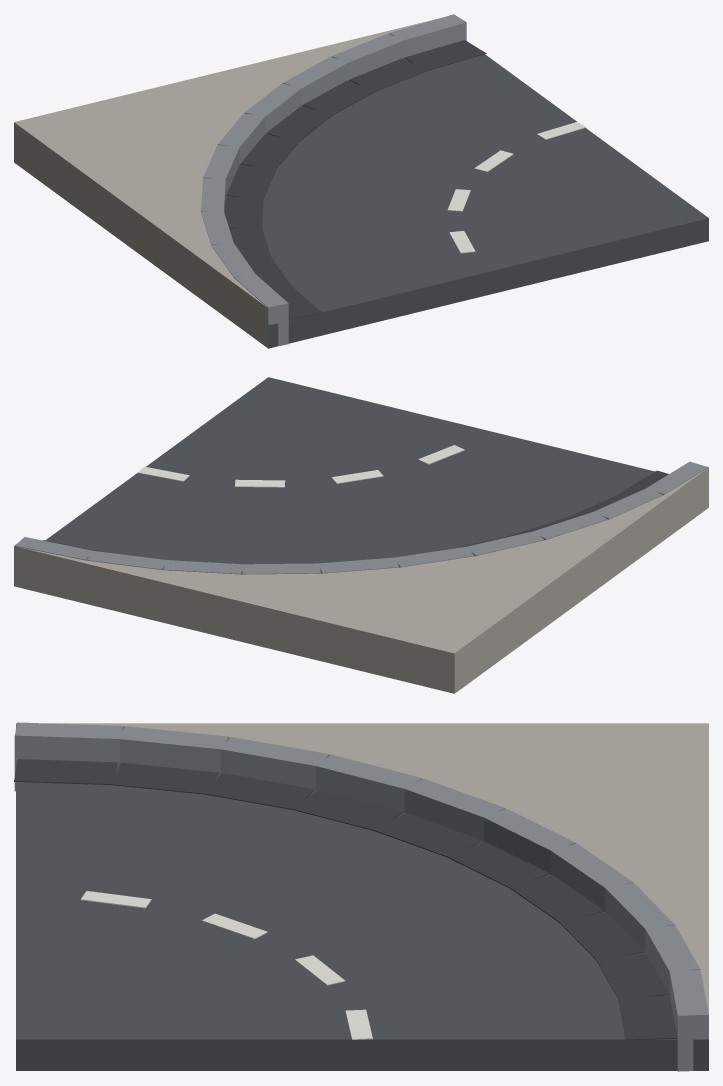
File: Road_Corner.glb
3 renders of one model, top to bottom at view 1: azimuth 30°, elevation 25°; view 2: azimuth 150°, elevation 25°; view 3: azimuth 270°, elevation 25°, orthographic. The views are drawn at different scales.
Visible parts, largest first — view 1: Road_Corner; view 2: Road_Corner; view 3: Road_Corner.
Part boxes in pixels (x1,y1,x2,y2): Road_Corner: (14, 14, 708, 348); Road_Corner: (14, 377, 708, 693); Road_Corner: (14, 722, 708, 1071).
Size of the model in its own units: 4.01 by 0.355 by 4.01.
1 material, 1 textured.
